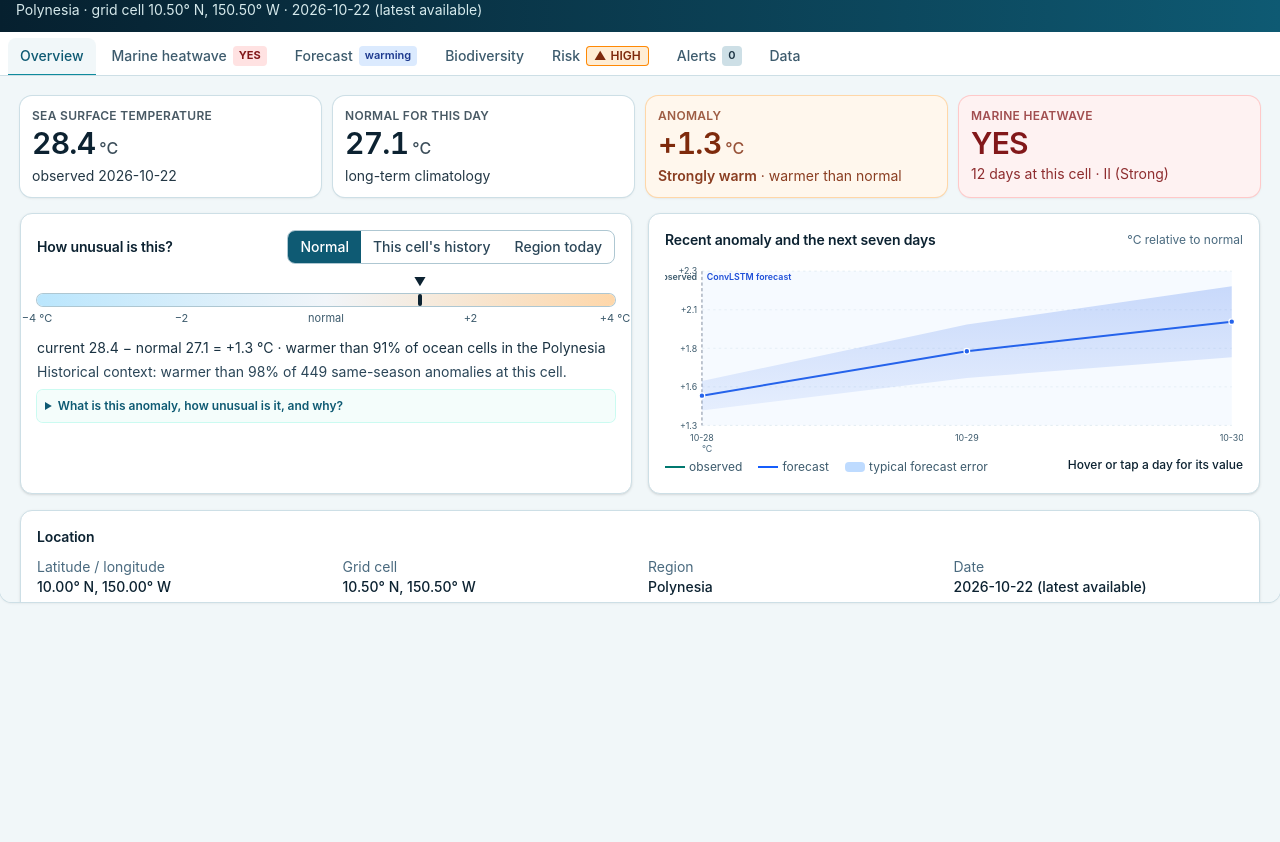
Scenario: Explainable AI panel › uses no causal language and invents no physical driver
Click the tab "Forecast warming".
click(356, 57)  # box x1=283 y1=38 x2=429 y2=76
(page scrolled)
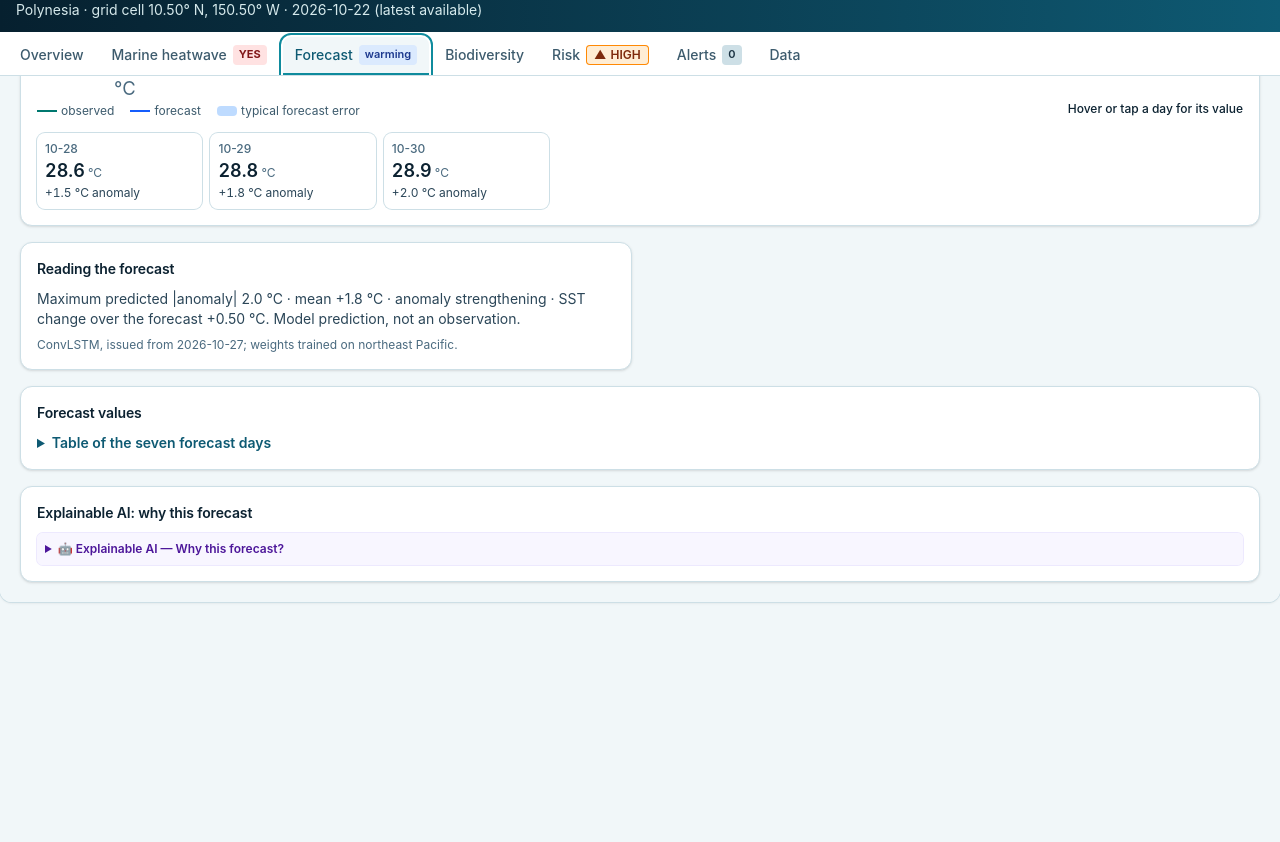
Click the heading "🤖 Explainable AI — Why this forecast?".
click(171, 548)  # box x1=58 y1=541 x2=284 y2=556
(page scrolled)
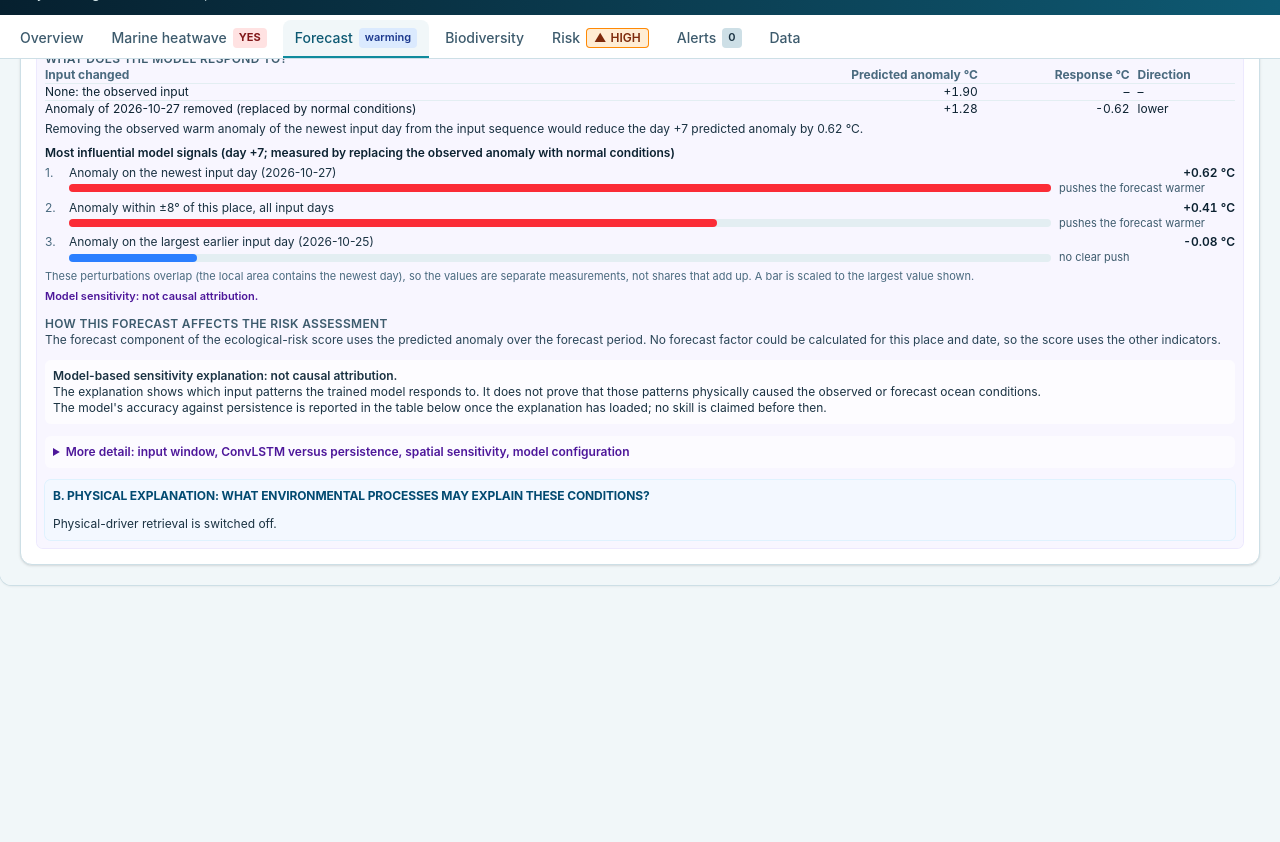
Check: the element with test id "xai-limits" is shown, box x1=45 y1=360 x2=1235 y2=424
